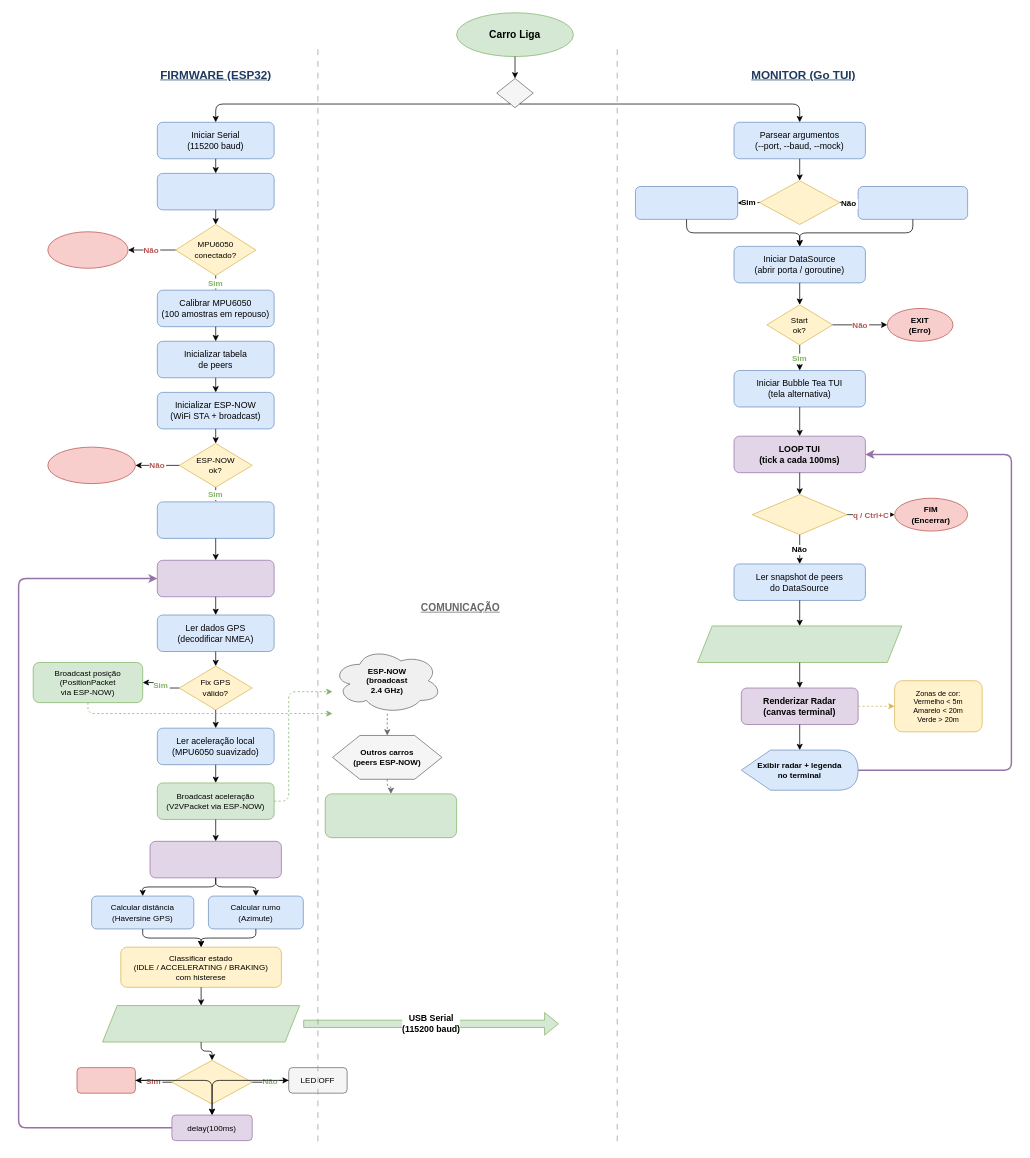
Image size: 1030x1158. Some labels were removed from this diagram. The box of each missing label's shape, as (x1, y1, x2, y2) in pixels:
Criar MockSource (peers simulados): (635, 186, 738, 219)
Criar SerialSource (porta USB do ESP32): (857, 186, 968, 219)
Enviar NDJSON via Serial {mac, distance, bearing, state}: (102, 1005, 300, 1042)
HALT (Erro Comms): (47, 446, 135, 484)
HALT (Erro MPU): (47, 231, 128, 268)
Inicializar GPS (NEO-6M Serial2 9600 baud): (157, 501, 274, 538)
Inicializar MPU6050 (Acelerômetro I2C): (157, 173, 274, 210)
LED ON: (76, 1067, 135, 1093)
LOOP PRINCIPAL (a cada 100ms): (157, 560, 274, 597)
Modo mock?: (759, 180, 840, 224)
Para cada peer ativo: (não expirado < 500ms): (149, 841, 281, 878)
Parsear NDJSON de cada peer {mac, distance, bearing, state}: (697, 625, 902, 662)
Peer freando?: (171, 1060, 252, 1104)
Receber pacotes dos peers (callback ESP-NOW) → Atualizar tabela de peers: (324, 793, 457, 838)
Tecla pressionada?: (752, 494, 847, 535)
